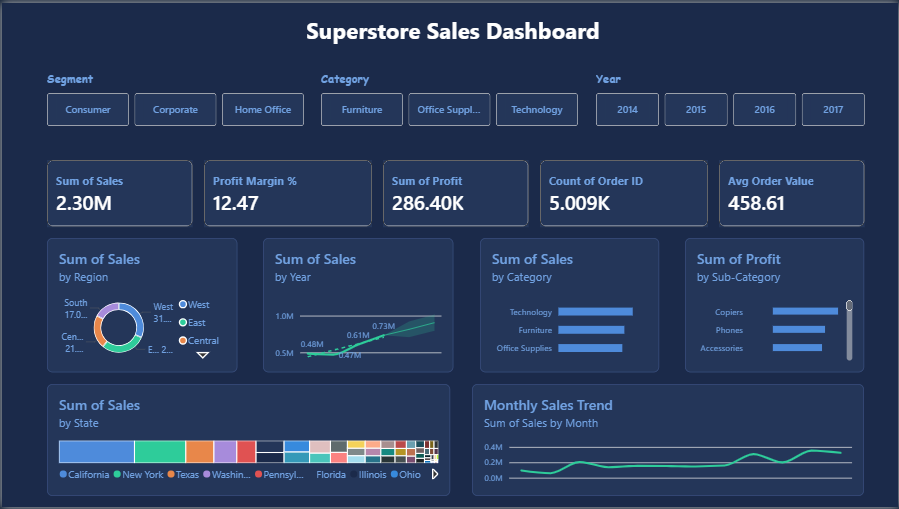

The dashboard page shown, as its layout file describes it:
{"tool":"powerbi","page":{"name":"Page 1","canvas":[1280,720],"ordinal":0},"visuals":[{"type":"clusteredBarChart","fields":{"Category":["Orders.Category"],"Y":["Sum(Orders.Sales)"]},"box":[682.7,336,256,192],"z":0},{"type":"donutChart","fields":{"Category":["Orders.Region"],"Y":["Sum(Orders.Sales)"]},"box":[64,336,272,192],"z":1000},{"type":"lineChart","fields":{"Category":["Orders.Order Date.Variation.Date Hierarchy.Year"],"Y":["Sum(Orders.Sales)"]},"box":[373.3,336,272,192],"z":2000},{"type":"clusteredBarChart","fields":{"Category":["Orders.Sub-Category"],"Y":["Sum(Orders.Profit)"]},"box":[976,336,256,192],"z":3000},{"type":"cardVisual","fields":{"Data":["Sum(Orders.Sales)"]},"box":[64,224,208,96],"z":4000},{"type":"cardVisual","fields":{"Data":["Sum(Orders.Profit)"]},"box":[544,224,208,96],"z":5000},{"type":"cardVisual","fields":{"Data":["Count(Orders.Order ID)"]},"box":[768,224,240,96],"z":6000},{"type":"textbox","box":[400,16,480,64],"z":7000},{"type":"treemap","fields":{"Group":["Orders.State"],"Values":["Sum(Orders.Sales)"]},"box":[64,544,576,160],"z":9000},{"type":"advancedSlicerVisual","fields":{"Values":["Orders.Segment"]},"box":[64,96,368,80],"z":10000},{"type":"cardVisual","fields":{"Data":["Orders.Profit Margin %"]},"box":[288,224,240,96],"z":11000},{"type":"cardVisual","fields":{"Data":["Orders.Avg Order Value"]},"box":[1024,224,208,96],"z":12000},{"type":"lineChart","title":"Monthly Sales Trend","fields":{"Category":["Orders.Order Date.Variation.Date Hierarchy.Month"],"Y":["Sum(Orders.Sales)"]},"box":[672,544,560,160],"z":14000},{"type":"advancedSlicerVisual","fields":{"Values":["Orders.Category"]},"box":[456,96,368,80],"z":14001},{"type":"advancedSlicerVisual","fields":{"Values":["Orders.Order Date.Variation.Date Hierarchy.Year"]},"box":[848,96,384,80],"z":14002}]}

Visuals, with their boxes in screenshot pixels (x1, y1, x2, y2), scaled from the page's 1280x720 canvas onto the 899x509 screenshot:
clusteredBarChart - Orders.Category x Sum(Orders.Sales): box(479, 238, 659, 373)
donutChart - Orders.Region x Sum(Orders.Sales): box(45, 238, 236, 373)
lineChart - Orders.Order Date.Variation.Date Hierarchy.Year x Sum(Orders.Sales): box(262, 238, 453, 373)
clusteredBarChart - Orders.Sub-Category x Sum(Orders.Profit): box(685, 238, 865, 373)
cardVisual - Sum(Orders.Sales): box(45, 158, 191, 226)
cardVisual - Sum(Orders.Profit): box(382, 158, 528, 226)
cardVisual - Count(Orders.Order ID): box(539, 158, 708, 226)
textbox: box(281, 11, 618, 57)
treemap - Orders.State x Sum(Orders.Sales): box(45, 385, 450, 498)
advancedSlicerVisual - Orders.Segment: box(45, 68, 303, 124)
cardVisual - Orders.Profit Margin %: box(202, 158, 371, 226)
cardVisual - Orders.Avg Order Value: box(719, 158, 865, 226)
"Monthly Sales Trend" lineChart: box(472, 385, 865, 498)
advancedSlicerVisual - Orders.Category: box(320, 68, 579, 124)
advancedSlicerVisual - Orders.Order Date.Variation.Date Hierarchy.Year: box(596, 68, 865, 124)
